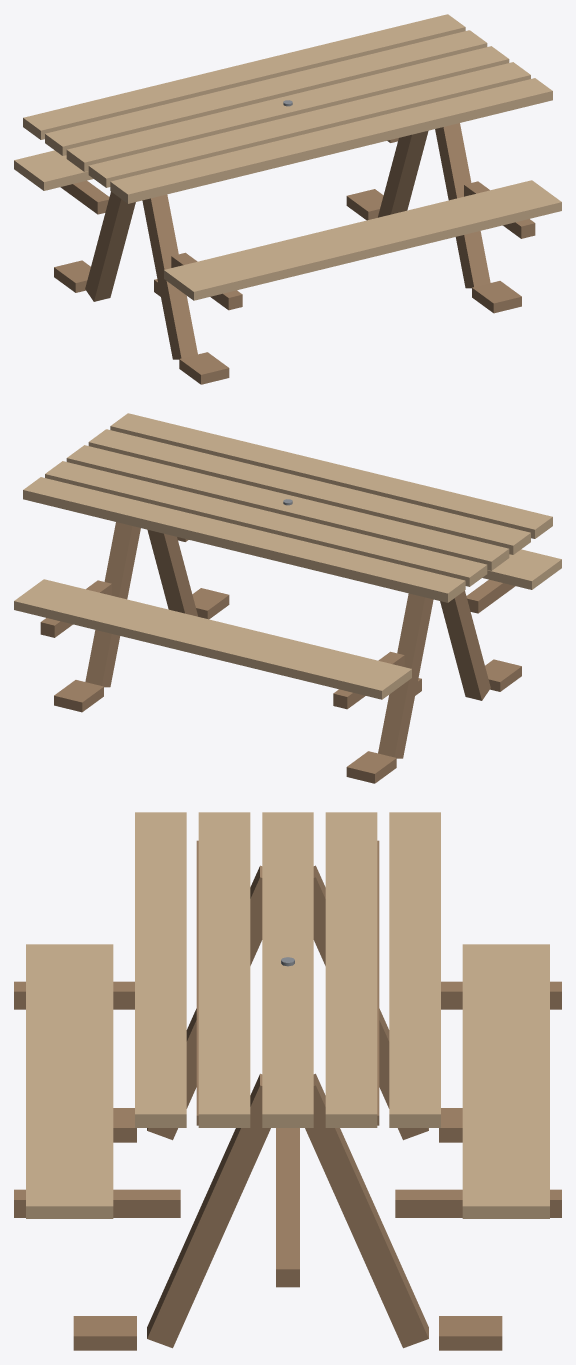
The model's file is PicnicTable.fbx.
3 renders of one model, top to bottom at view 1: azimuth 30°, elevation 25°; view 2: azimuth 150°, elevation 25°; view 3: azimuth 270°, elevation 25°, orthographic. The views are drawn at different scales.
Parts seen in each view (by area): view 1: LOD0; view 2: LOD0; view 3: LOD0.
Part boxes in pixels (x1=…): LOD0: x1=14, y1=14, x2=561, y2=384; LOD0: x1=14, y1=413, x2=561, y2=783; LOD0: x1=14, y1=812, x2=561, y2=1350.
Size of what is drawn, in the model's own units: 180 by 77.34 by 138.
